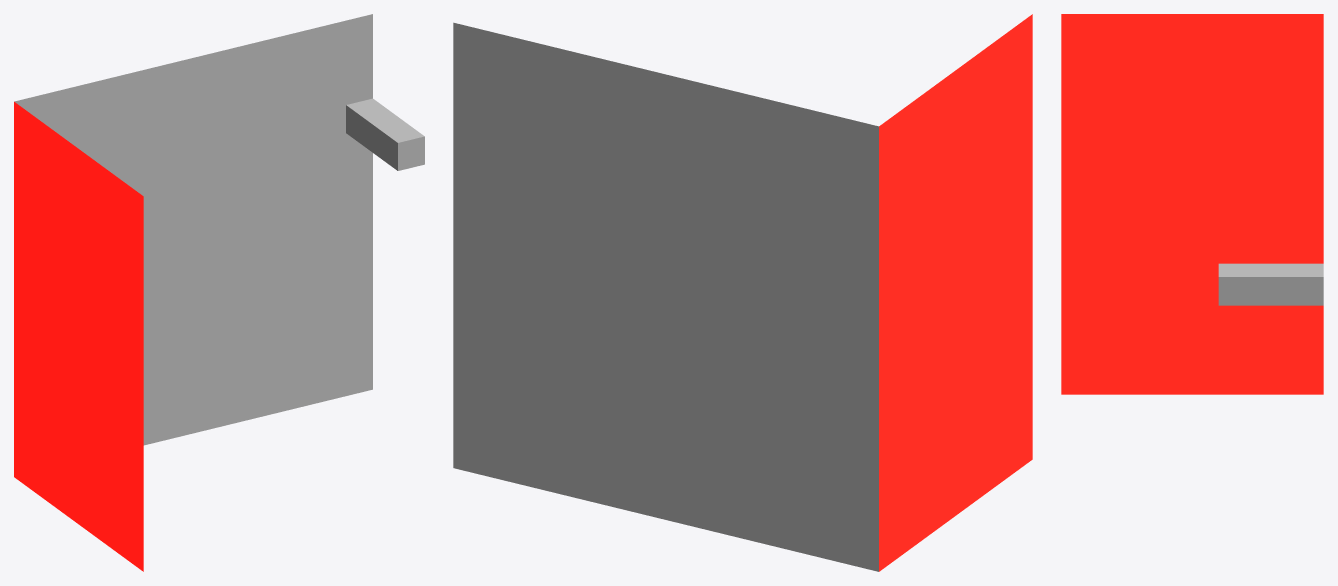
The model's file is untextured.gltf.
3 views of the same model, side by side, from view 1: azimuth 30°, elevation 25°; view 2: azimuth 150°, elevation 25°; view 3: azimuth 270°, elevation 25° (orthographic). The views are drawn at different scales.
Bounding box in the file's own units: 4 × 4 × 2.5.
